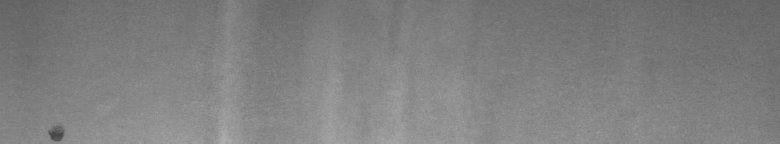fi: (44, 120, 69, 136)
